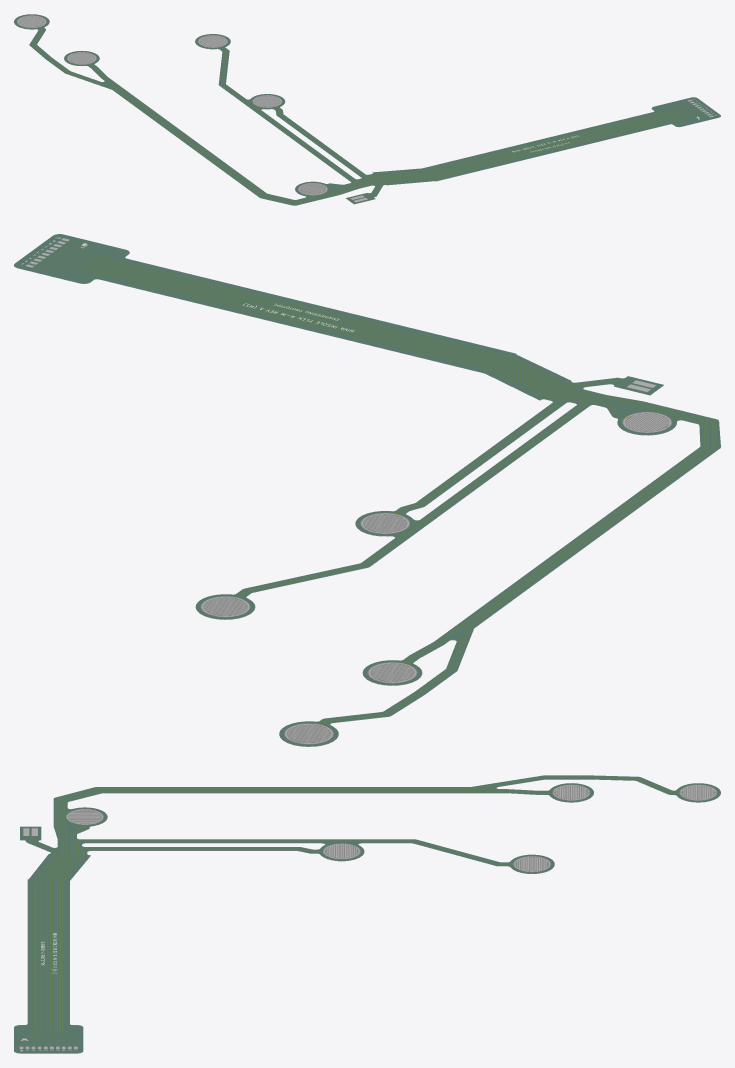
Rendered from NIVA-insole-R-PCBA.glb.
3 renders of one model, top to bottom at view 1: azimuth 30°, elevation 25°; view 2: azimuth 150°, elevation 25°; view 3: azimuth 270°, elevation 25°, orthographic. The views are drawn at different scales.
Visible parts, largest first — view 1: =>[0:1:1:7], =>[0:1:1:9], =>[0:1:1:4]; view 2: =>[0:1:1:7], =>[0:1:1:9], =>[0:1:1:4], =>[0:1:1:8]; view 3: =>[0:1:1:7], =>[0:1:1:9], =>[0:1:1:4].
Boxes of the visible parts, x1=… form: =>[0:1:1:7]: x1=14, y1=14, x2=720, y2=205; =>[0:1:1:9]: x1=14, y1=15, x2=720, y2=205; =>[0:1:1:4]: x1=17, y1=15, x2=713, y2=202; =>[0:1:1:7]: x1=14, y1=234, x2=720, y2=746; =>[0:1:1:9]: x1=14, y1=235, x2=720, y2=746; =>[0:1:1:4]: x1=26, y1=238, x2=670, y2=743; =>[0:1:1:8]: x1=14, y1=266, x2=720, y2=746; =>[0:1:1:7]: x1=14, y1=775, x2=720, y2=1053; =>[0:1:1:9]: x1=14, y1=776, x2=720, y2=1053; =>[0:1:1:4]: x1=19, y1=785, x2=716, y2=1049.
Size of the model in its own units: 0.2175 by 0.000615 by 0.234.
